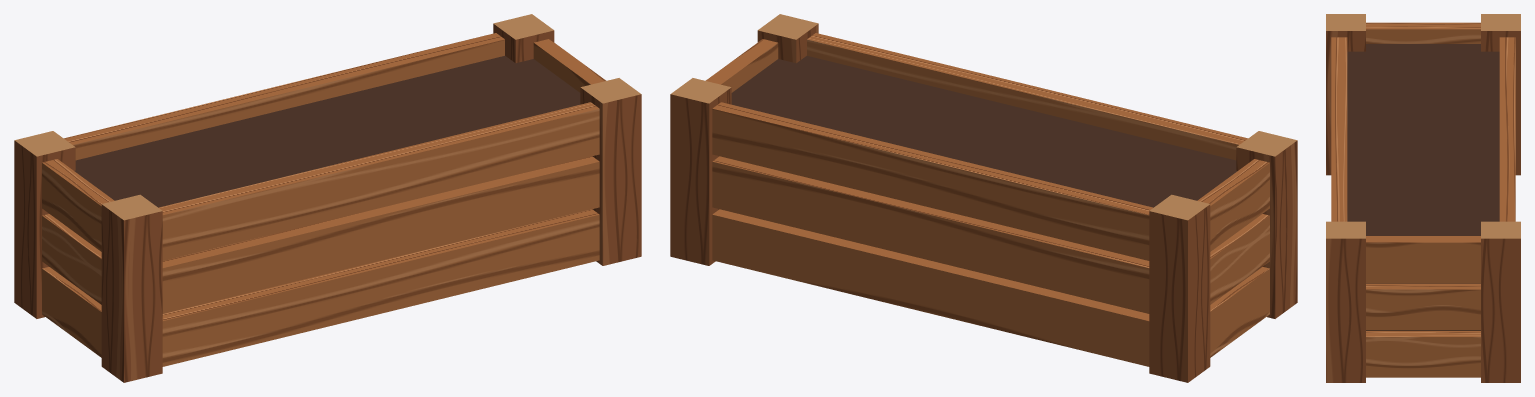
The model's file is FMS_Deco_Planter_Box_Empty.fbx.
3 renders of one model, left to right at view 1: azimuth 30°, elevation 25°; view 2: azimuth 150°, elevation 25°; view 3: azimuth 270°, elevation 25°, orthographic. The views are drawn at different scales.
Parts seen in each view (by area): view 1: item_decor_planter_box_empty; view 2: item_decor_planter_box_empty; view 3: item_decor_planter_box_empty.
Part boxes in pixels (box(x1,y1,x2,y2)): item_decor_planter_box_empty: box(14, 14, 641, 382); item_decor_planter_box_empty: box(670, 14, 1297, 382); item_decor_planter_box_empty: box(1326, 14, 1520, 382).
Size of the model in its own units: 0.6 by 0.18 by 0.22.
